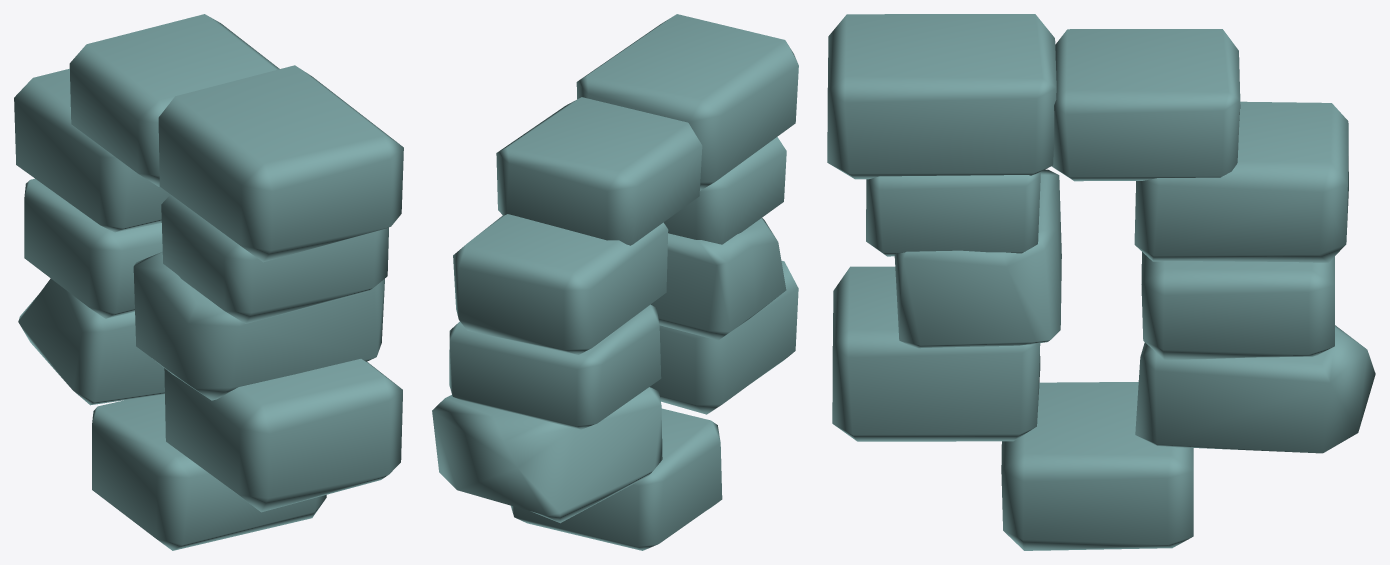
The model's file is Beam_Structure_13A_Lod0.fbx.
3 renders of one model, left to right at view 1: azimuth 30°, elevation 25°; view 2: azimuth 150°, elevation 25°; view 3: azimuth 270°, elevation 25°, orthographic. The views are drawn at different scales.
Visible parts, largest first — view 1: Beam_Structure_13A_Lod0; view 2: Beam_Structure_13A_Lod0; view 3: Beam_Structure_13A_Lod0.
Part boxes in pixels (box(x1,y1,x2,y2)): Beam_Structure_13A_Lod0: box(14, 14, 403, 550); Beam_Structure_13A_Lod0: box(432, 14, 798, 550); Beam_Structure_13A_Lod0: box(827, 14, 1375, 550).
Bounding box in the file's own units: 32.72 × 73.08 × 77.23.
